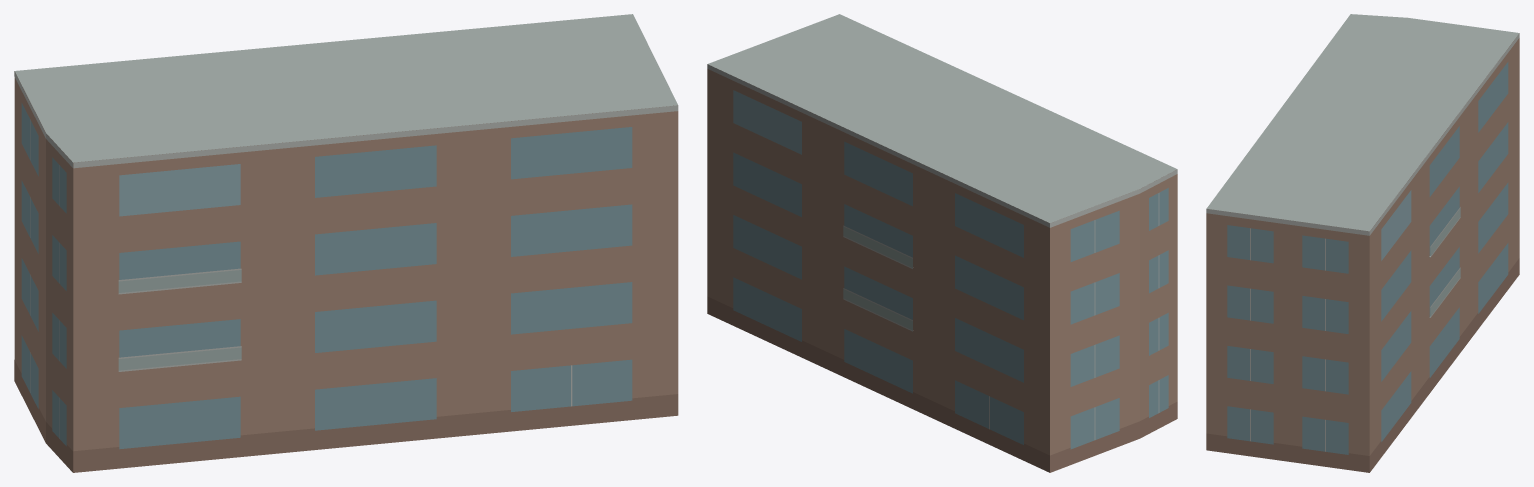
The model's file is survey-upis-32529471.glb.
3 renders of one model, left to right at view 1: azimuth 30°, elevation 25°; view 2: azimuth 150°, elevation 25°; view 3: azimuth 270°, elevation 25°, orthographic. The views are drawn at different scales.
Visible parts, largest first — view 1: survey-upis-32529471.tmp; view 2: survey-upis-32529471.tmp; view 3: survey-upis-32529471.tmp.
Part boxes in pixels (x1,y1,x2,y2): survey-upis-32529471.tmp: [14, 14, 678, 472]; survey-upis-32529471.tmp: [707, 14, 1177, 472]; survey-upis-32529471.tmp: [1206, 14, 1519, 472].
Size of the model in its own units: 25.29 by 13.1 by 15.4.
